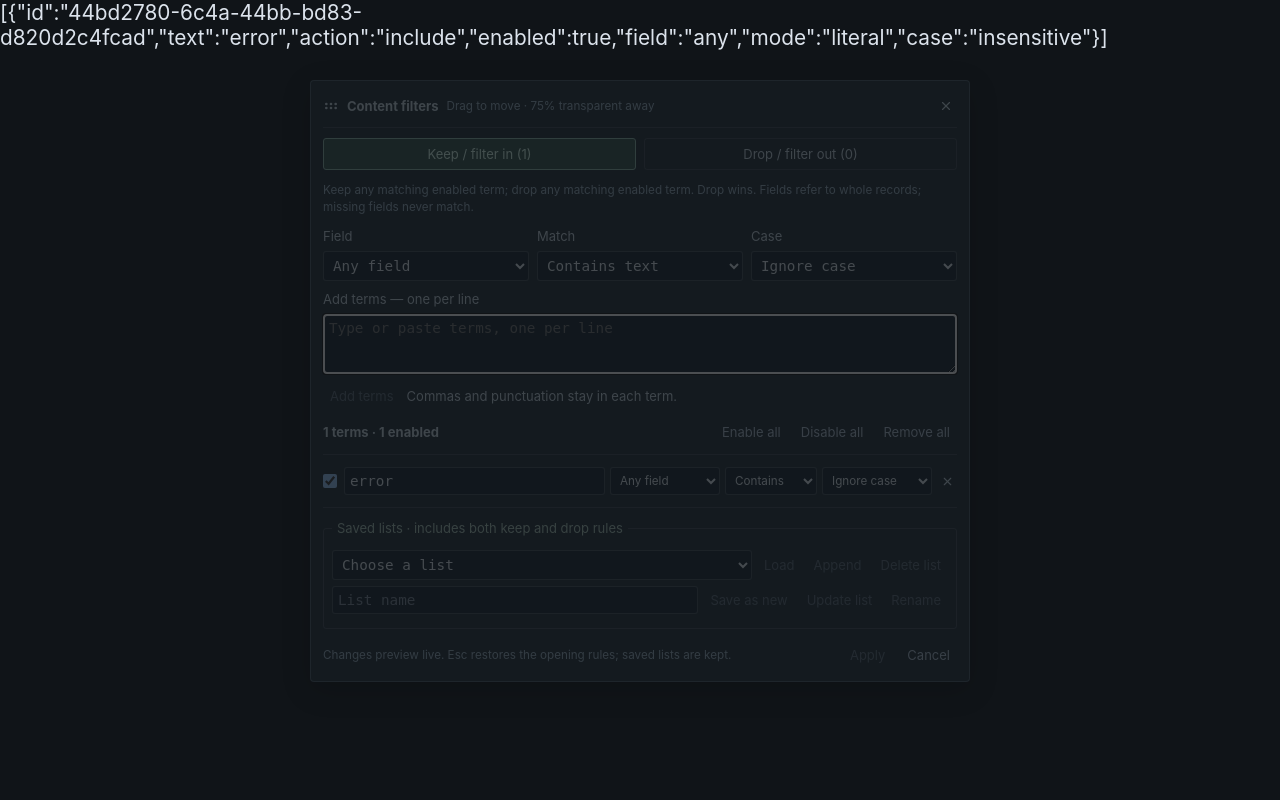
Scenario: filter editor › reports storage failures without claiming that a list was saved
The width and height of the screenshot is (1280, 800).
Type "Errors" into the field named "Filter list name" at (515, 600), box x1=332 y1=586 x2=698 y2=614
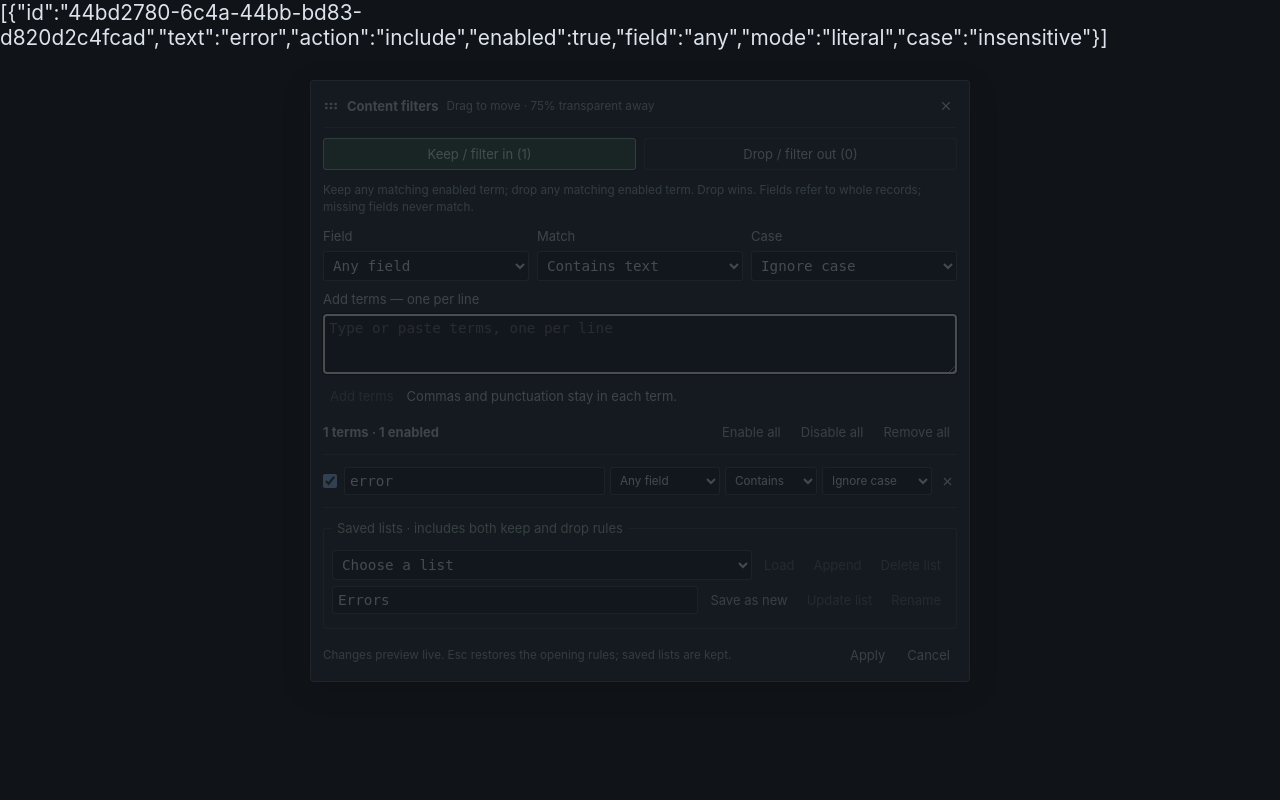
Click the button "Save as new" at (749, 600), box x1=703 y1=586 x2=795 y2=614
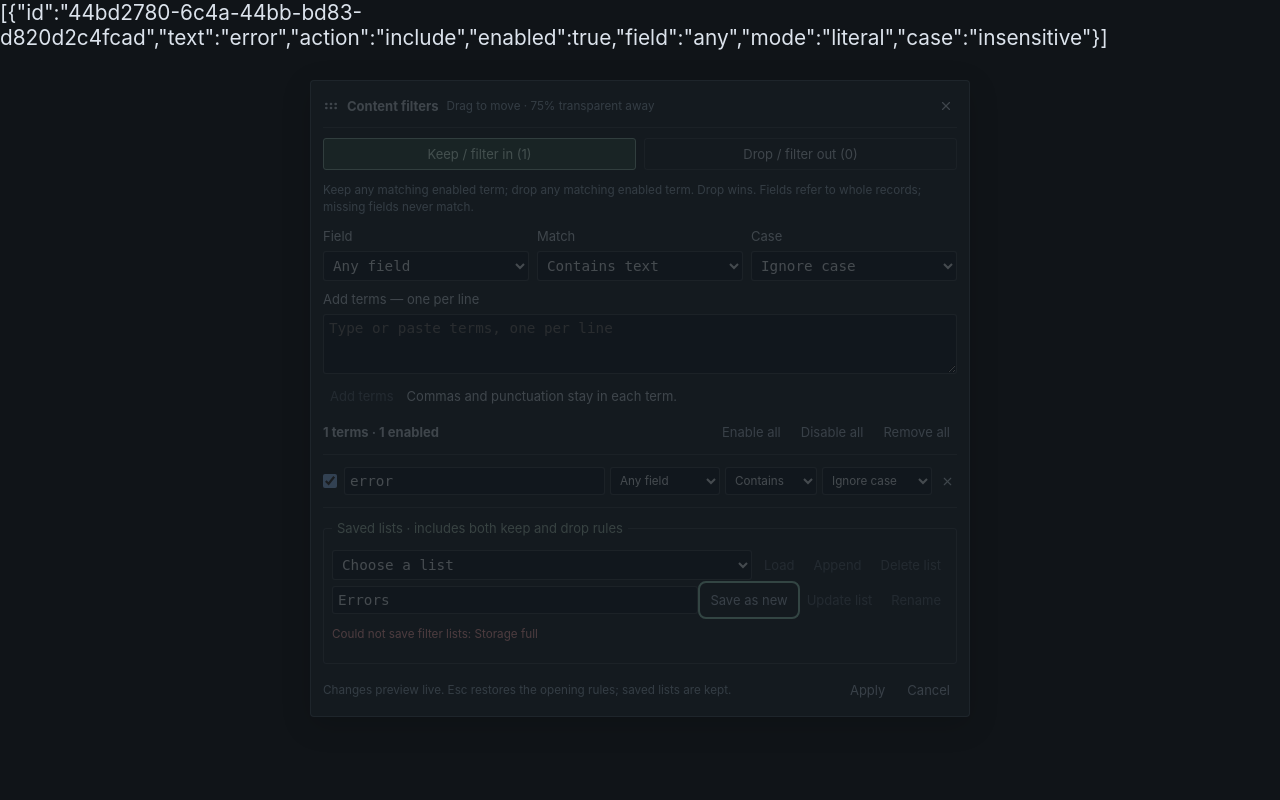
Expected: the message shows "Could not save", x1=332 y1=627 x2=538 y2=641
